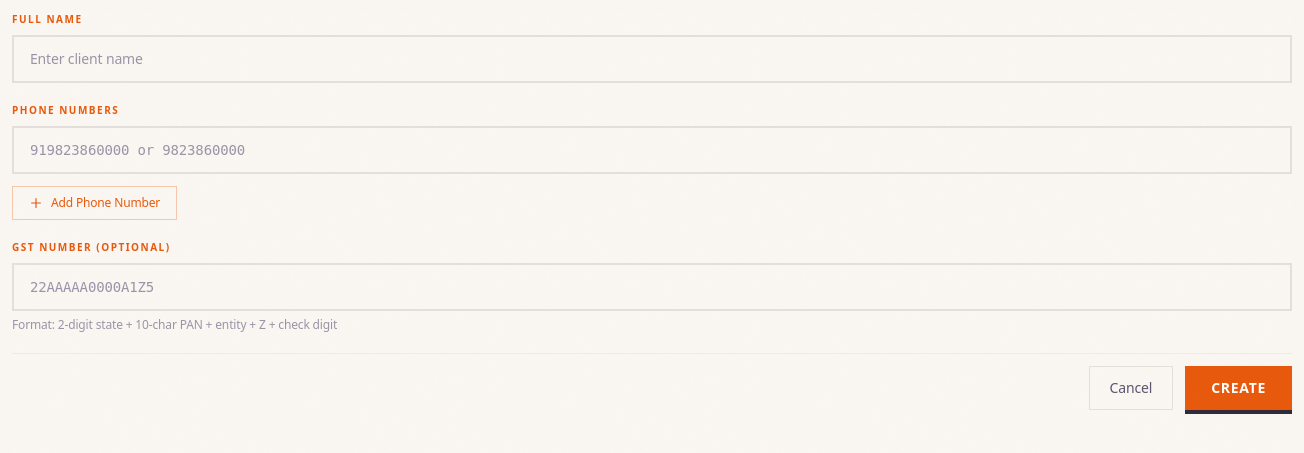
Test: ClientForm › Unit Tests - Form Validation › should reject phone number with incorrect length
This screenshot has width=1304, height=453.
Type "Test User" into the field labelled "Full Name" at (652, 59), box x1=12 y1=35 x2=1292 y2=83
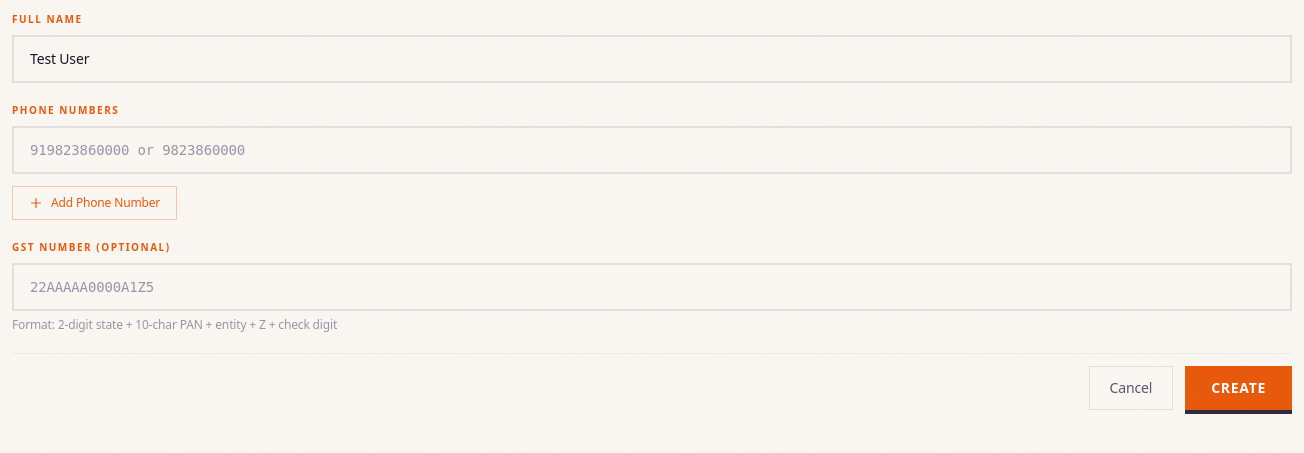
Type "9198238" into the field with placeholder "919823860000 or 9823860000" at (652, 150), box x1=12 y1=126 x2=1292 y2=174
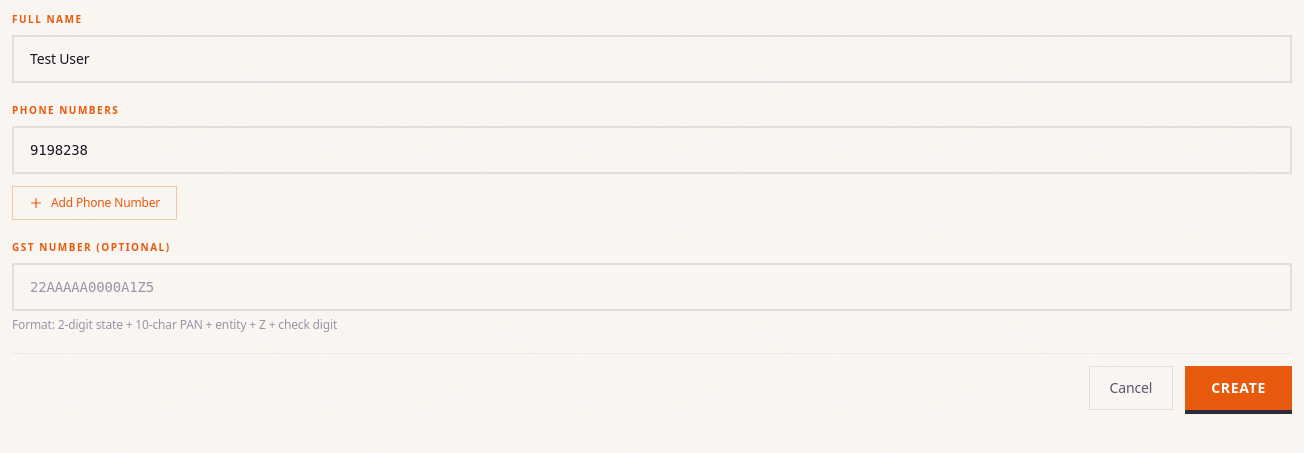
Click the button "Create" at (1239, 388), box x1=1185 y1=366 x2=1292 y2=410
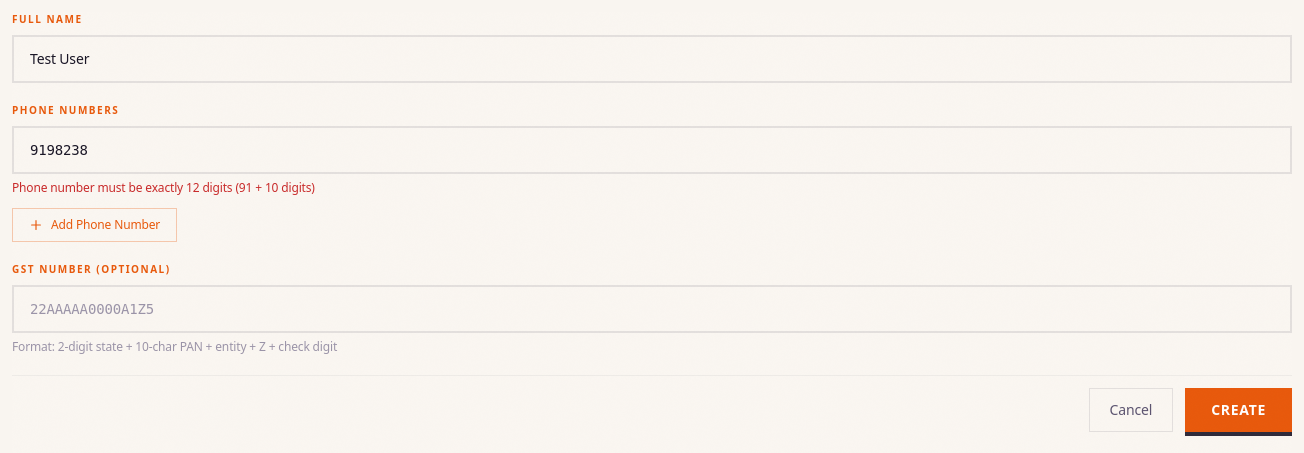
expect the text "Phone number must be exactly 12 digits (91 + 10 digits)" is shown: met, box x1=12 y1=179 x2=315 y2=196
